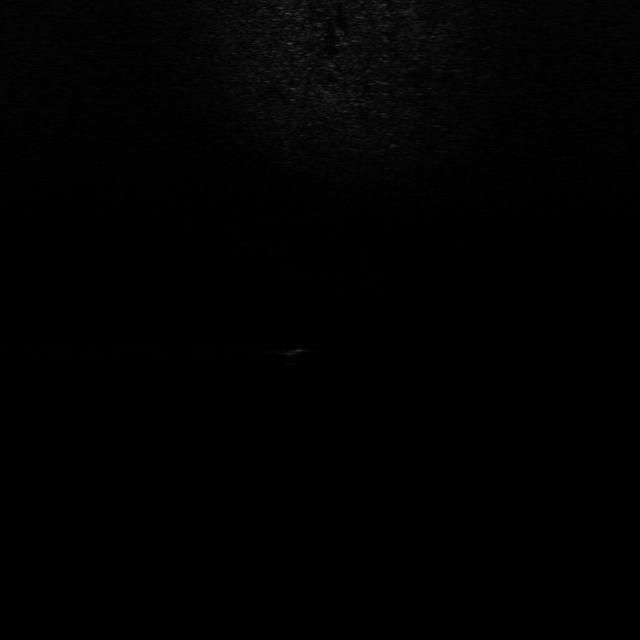human body: (281, 339, 318, 375)
